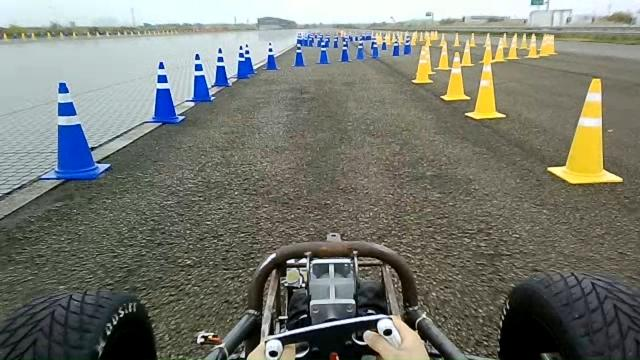blue cone: (39, 80, 111, 180), (144, 61, 185, 124), (185, 53, 215, 102), (212, 47, 231, 87), (262, 42, 280, 70), (236, 45, 250, 79), (243, 43, 256, 74), (292, 43, 306, 67), (403, 35, 412, 55)
yellow cone: (547, 77, 623, 184), (418, 39, 436, 74), (434, 44, 450, 70), (524, 33, 540, 58), (460, 39, 474, 66), (506, 33, 520, 59)
